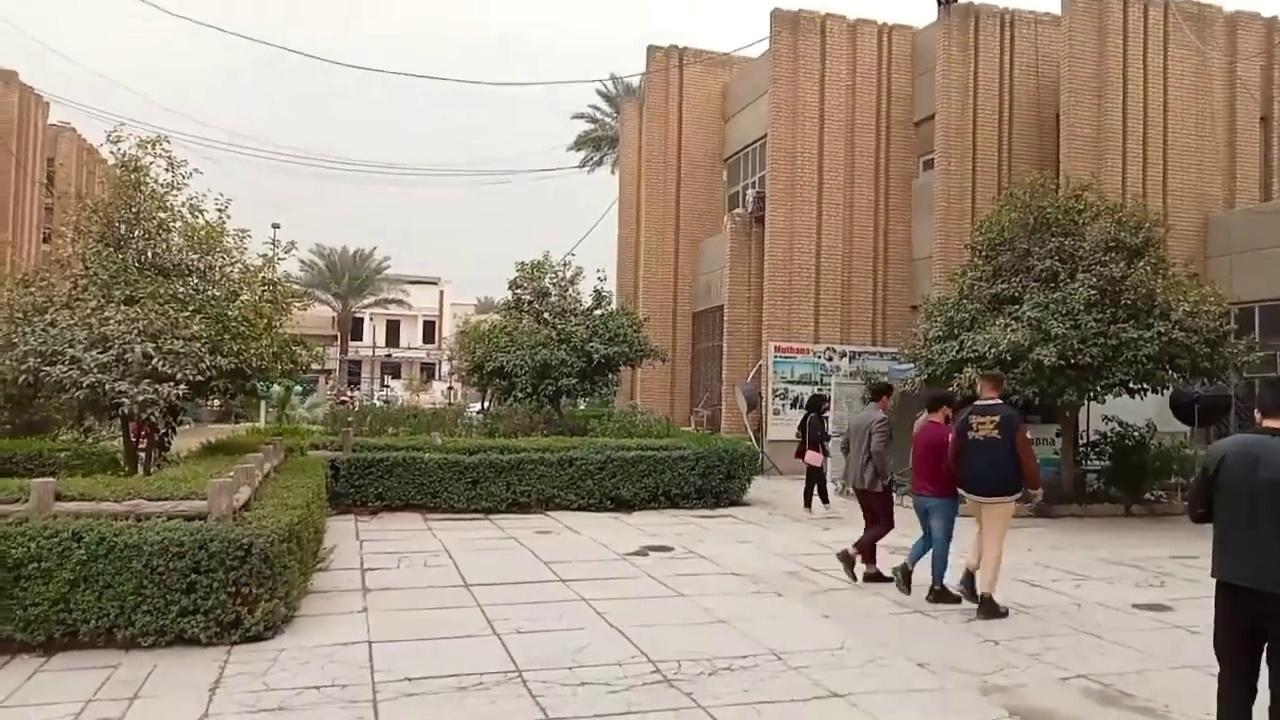person: (1185, 375, 1279, 718), (947, 369, 1043, 619), (891, 389, 963, 604), (835, 380, 896, 583), (794, 393, 831, 514)
tree: (892, 167, 1263, 505), (0, 120, 324, 476), (1, 430, 334, 650), (444, 249, 669, 427), (325, 430, 761, 512), (281, 241, 410, 397), (1080, 413, 1200, 516), (565, 71, 641, 175)
